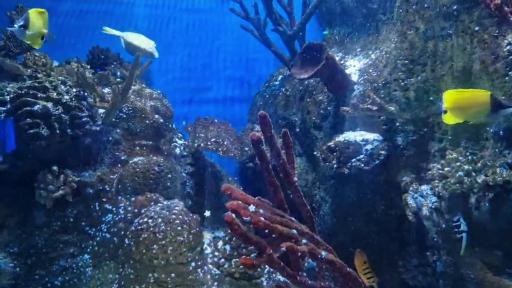Fish: (442, 89, 512, 125), (102, 26, 158, 59), (7, 8, 49, 49), (354, 249, 380, 288)
